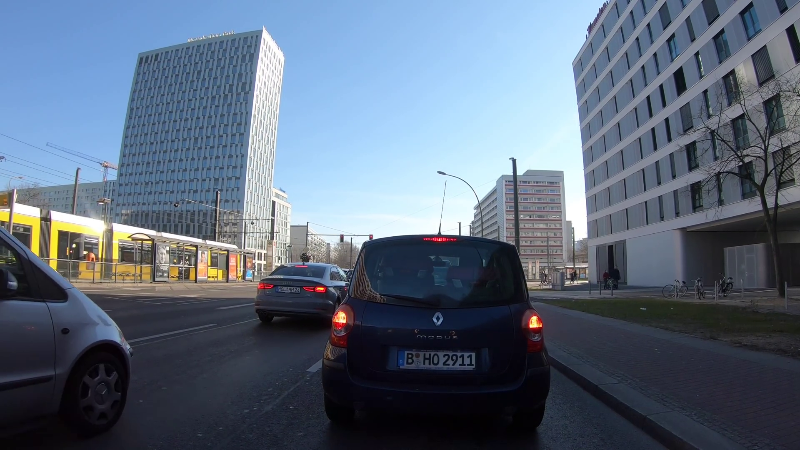Plate: (395, 348, 477, 372), (273, 283, 302, 294)
